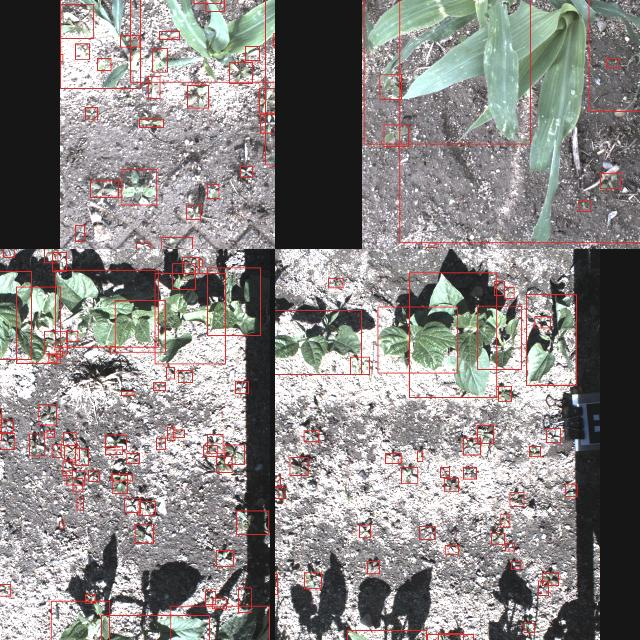crop: (399, 0, 640, 242), (362, 0, 529, 143), (129, 0, 275, 81), (408, 272, 496, 396), (54, 270, 158, 346), (59, 0, 139, 87), (154, 272, 226, 364), (588, 0, 640, 110), (275, 310, 360, 374), (377, 306, 457, 372), (526, 294, 576, 384), (208, 267, 260, 335), (170, 605, 269, 640), (15, 286, 59, 362), (477, 305, 521, 369), (101, 614, 209, 640), (0, 270, 31, 358), (114, 299, 166, 351), (49, 600, 108, 640), (437, 632, 463, 640)
weed: (120, 168, 156, 204), (59, 4, 93, 38), (236, 510, 268, 534), (382, 124, 408, 146), (172, 263, 194, 289), (186, 84, 208, 108), (379, 74, 401, 98), (44, 331, 66, 354), (228, 62, 252, 82), (89, 180, 117, 197), (160, 236, 191, 249), (134, 523, 154, 543), (224, 444, 244, 464), (259, 88, 275, 112), (38, 404, 56, 424), (476, 424, 494, 444), (104, 434, 126, 450), (28, 433, 44, 455), (349, 356, 368, 374), (152, 47, 166, 71), (289, 457, 307, 475), (600, 172, 620, 188), (112, 473, 128, 493), (238, 586, 250, 612), (215, 550, 233, 566), (462, 438, 480, 454), (400, 466, 418, 482), (260, 113, 275, 132), (147, 75, 159, 98), (208, 433, 222, 452), (216, 456, 232, 472), (182, 257, 198, 273), (304, 572, 320, 588), (66, 470, 84, 484), (52, 252, 66, 270), (186, 204, 200, 220), (74, 43, 88, 59), (124, 498, 140, 512), (139, 501, 155, 515), (74, 448, 88, 464), (0, 433, 13, 449), (245, 46, 259, 60), (64, 445, 78, 459), (509, 492, 523, 506), (444, 477, 458, 491), (546, 428, 560, 442), (138, 119, 162, 127), (542, 572, 558, 584), (534, 316, 550, 328), (204, 0, 223, 10), (43, 249, 57, 262), (120, 36, 138, 46), (302, 431, 318, 442), (206, 184, 218, 198), (96, 58, 110, 70), (204, 590, 216, 604), (203, 444, 217, 456), (62, 432, 76, 444), (178, 370, 192, 382), (420, 526, 434, 538), (462, 466, 476, 478), (367, 560, 379, 574), (358, 524, 370, 538), (498, 386, 510, 400), (74, 225, 84, 241), (159, 30, 179, 38), (538, 580, 548, 596), (384, 453, 400, 463), (0, 419, 12, 432), (235, 381, 248, 393), (491, 532, 504, 544), (110, 474, 132, 481), (84, 107, 96, 119), (212, 598, 226, 608), (72, 478, 82, 492), (126, 453, 140, 463), (62, 461, 72, 475), (444, 544, 458, 554), (566, 482, 576, 496), (494, 281, 504, 295), (328, 278, 342, 288), (240, 166, 252, 177), (106, 446, 122, 454), (51, 443, 60, 457), (578, 200, 590, 210), (66, 330, 78, 340), (504, 286, 514, 298), (88, 470, 99, 480), (0, 583, 9, 595), (135, 242, 150, 249), (167, 426, 175, 439), (275, 485, 283, 498), (524, 622, 534, 632), (530, 446, 540, 456), (606, 58, 618, 66), (172, 429, 184, 437), (153, 382, 165, 390), (500, 514, 508, 526), (157, 438, 166, 448), (439, 467, 448, 477), (193, 0, 221, 3), (120, 390, 134, 396), (85, 594, 95, 602), (166, 368, 174, 378), (2, 249, 13, 256), (76, 498, 82, 509), (48, 354, 56, 362), (512, 561, 520, 569), (504, 544, 514, 550), (416, 451, 422, 461), (275, 475, 280, 487), (46, 429, 54, 436), (55, 350, 61, 356), (59, 520, 63, 528), (198, 258, 202, 266), (425, 246, 435, 249), (110, 346, 114, 352), (60, 54, 62, 60)
